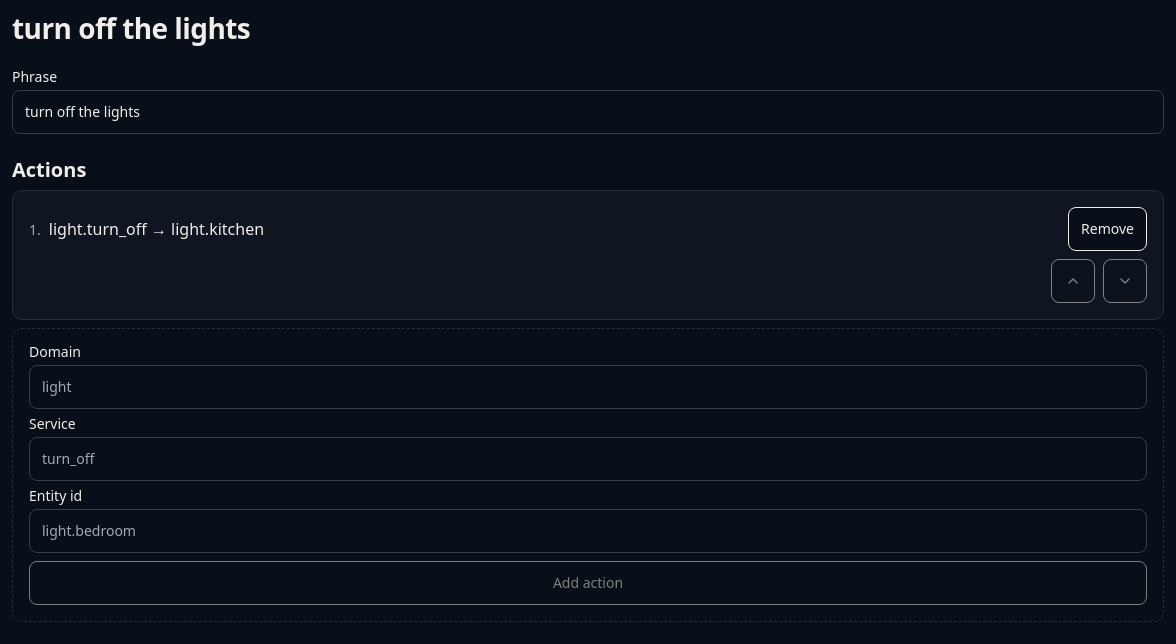
adding an action appends one row to the action list
The image size is (1176, 644).
Expected: the text "light.turn_off → light.kitchen" is shown, [49,217,264,241]
Expected: the number of list items is 1, [12,190,1164,320]
Type "switch" into the field labelled "Domain" at x=588, y=387, box [29,365,1147,409]
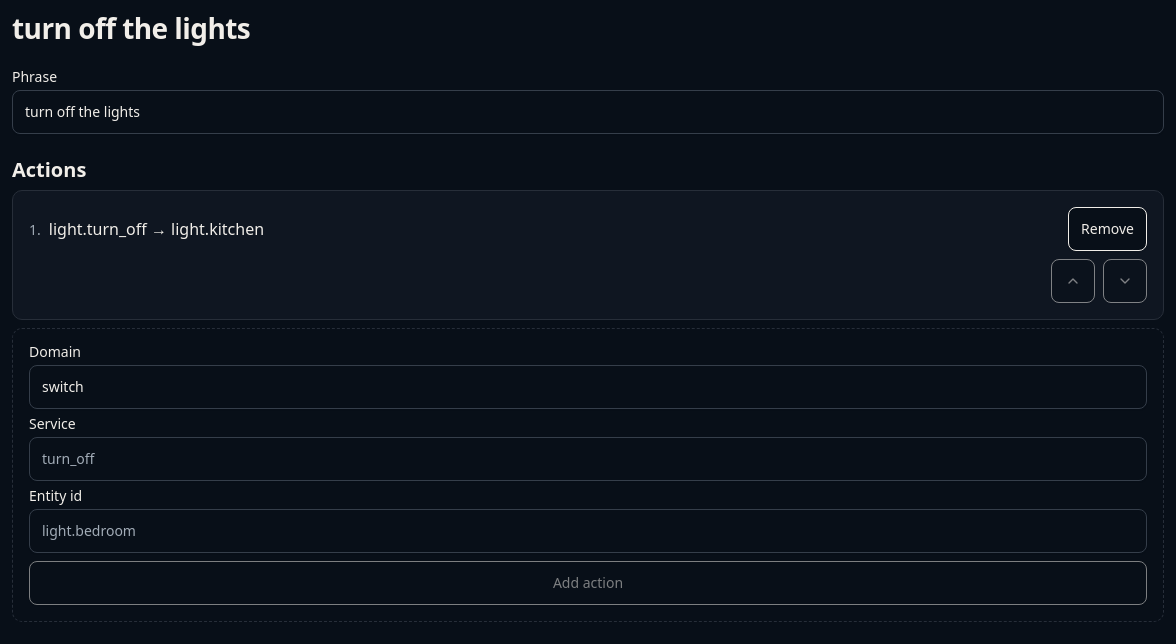
Type "turn_on" into the field labelled "Service" at x=588, y=459, box [29,437,1147,481]
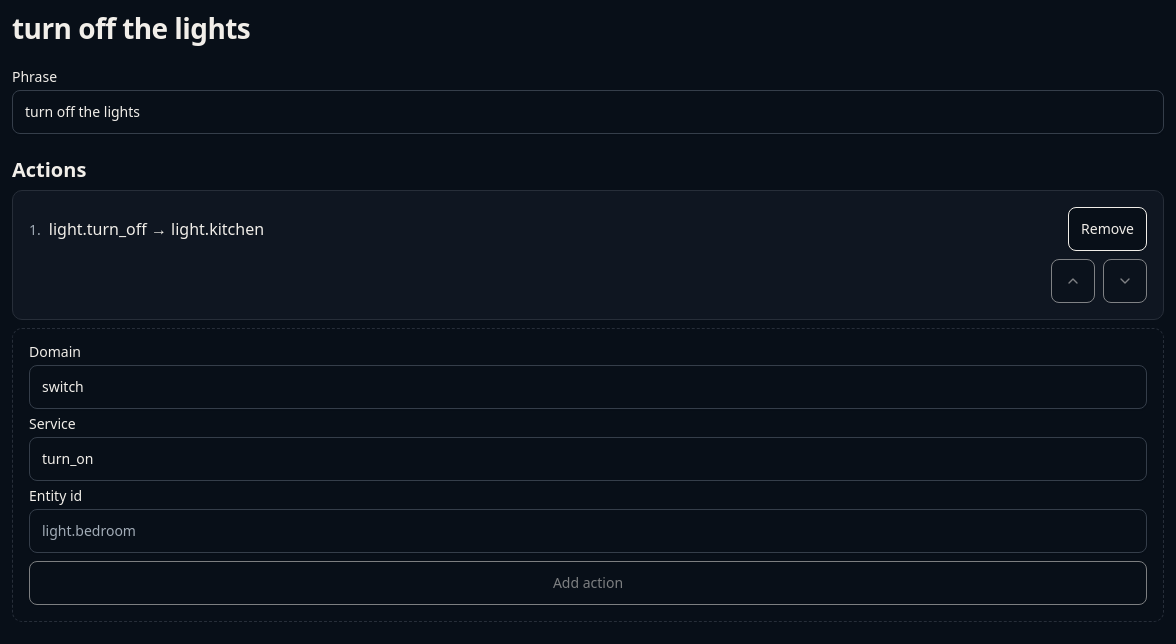
Type "switch.fan" into the field labelled "Entity id" at x=588, y=531, box [29,509,1147,553]
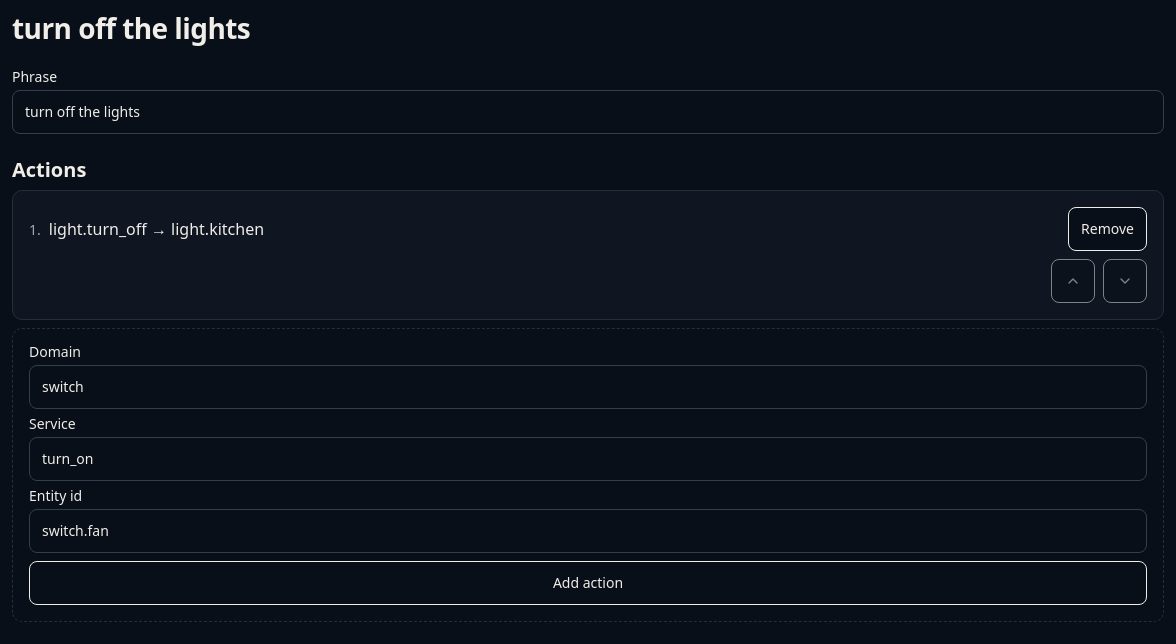
Click the button "Add action" at x=588, y=583, box [29,561,1147,605]
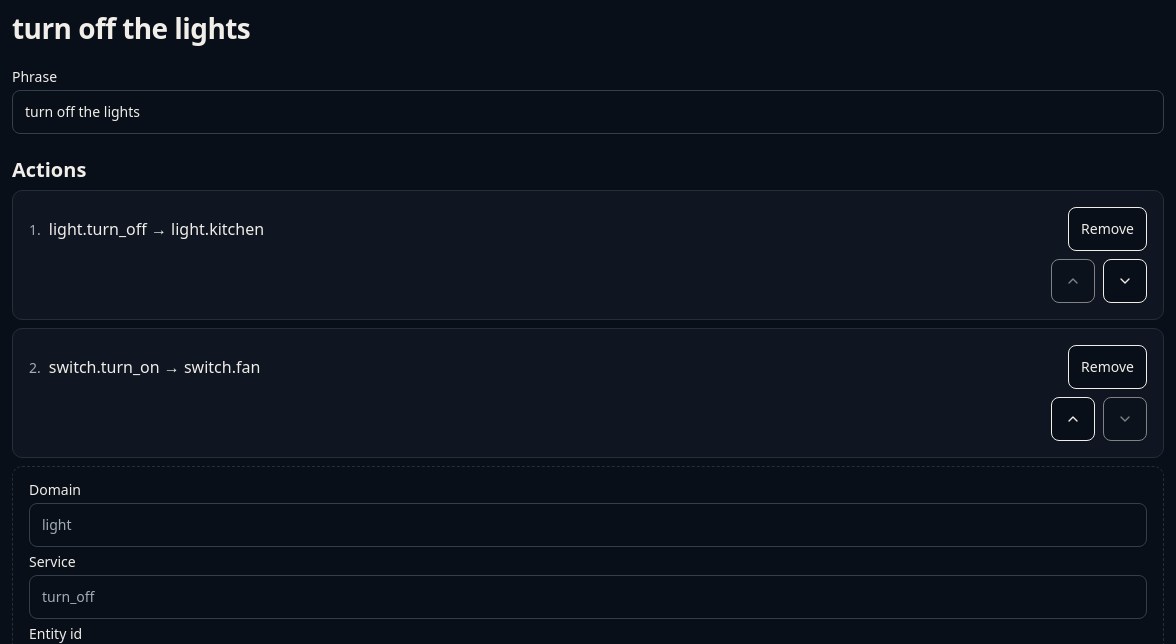
Expected: the text "switch.turn_on → switch.fan" is shown, [49,355,260,379]
Expected: the number of list items is 2, [12,190,1164,320]; [12,328,1164,458]
